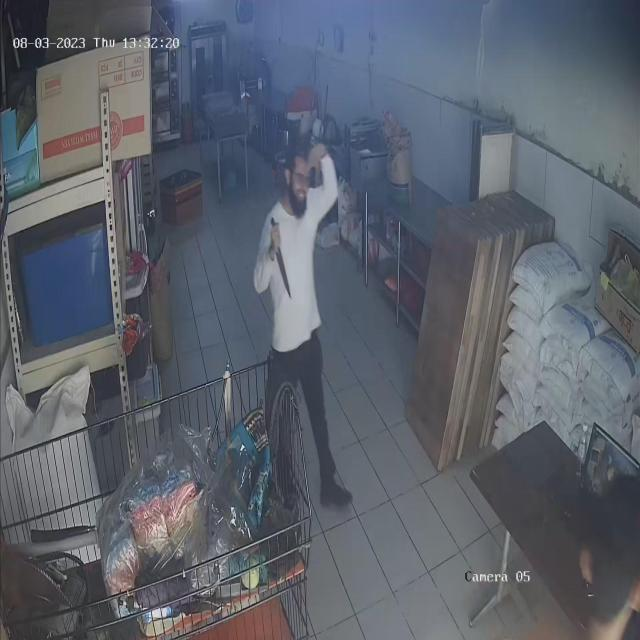Knife: (265, 217, 306, 305)
